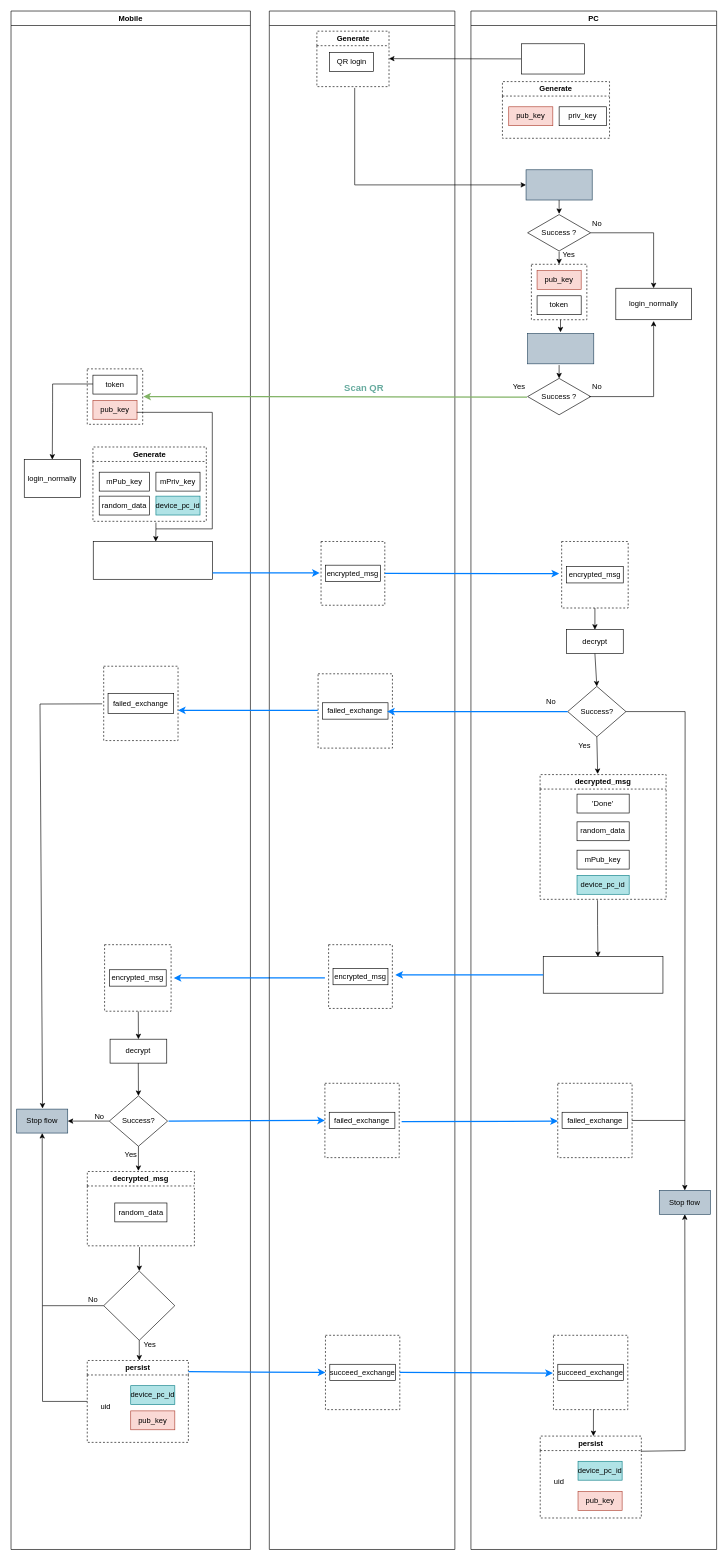
Some shapes in this 728 by 1561 pixel diagram are drawn without their labels. Each missing label, with the box of its shape:
ecrypted_msg(random_data, mPub_key): (543, 956, 663, 993)
encrypted_msg('Done' || random_data || mPub_key, pub_key): (93, 541, 212, 579)
Generate new QR login: (527, 333, 594, 364)
Login init: (521, 43, 584, 74)
Parse QR login: (525, 169, 592, 200)
Same random_data?: (103, 1270, 175, 1340)
Server: (269, 10, 455, 1549)
